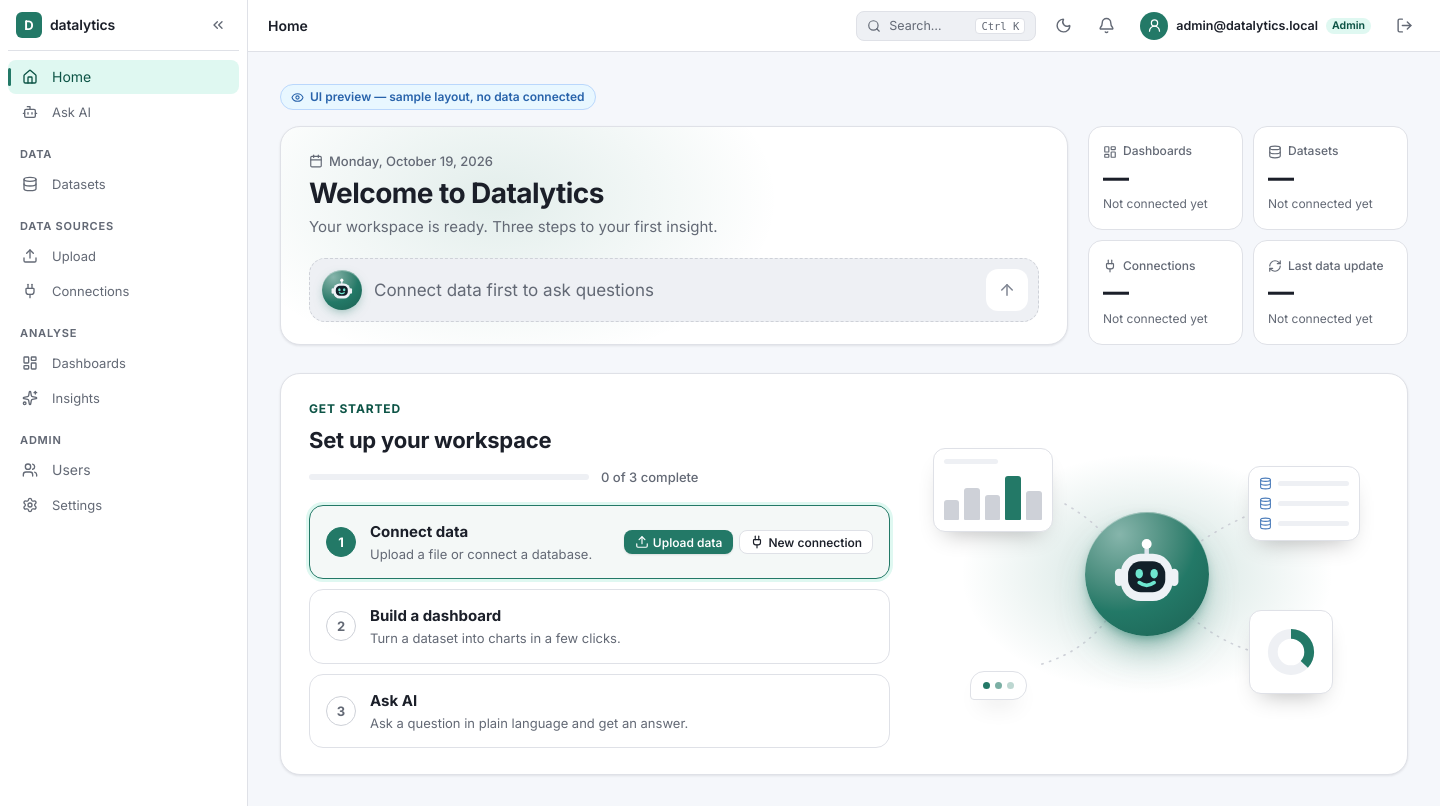
Test: App: administrators › administrators open the Users page from the sidebar and back to Home
Click the button "Users". click: (124, 470)
box: [8,453,239,487]
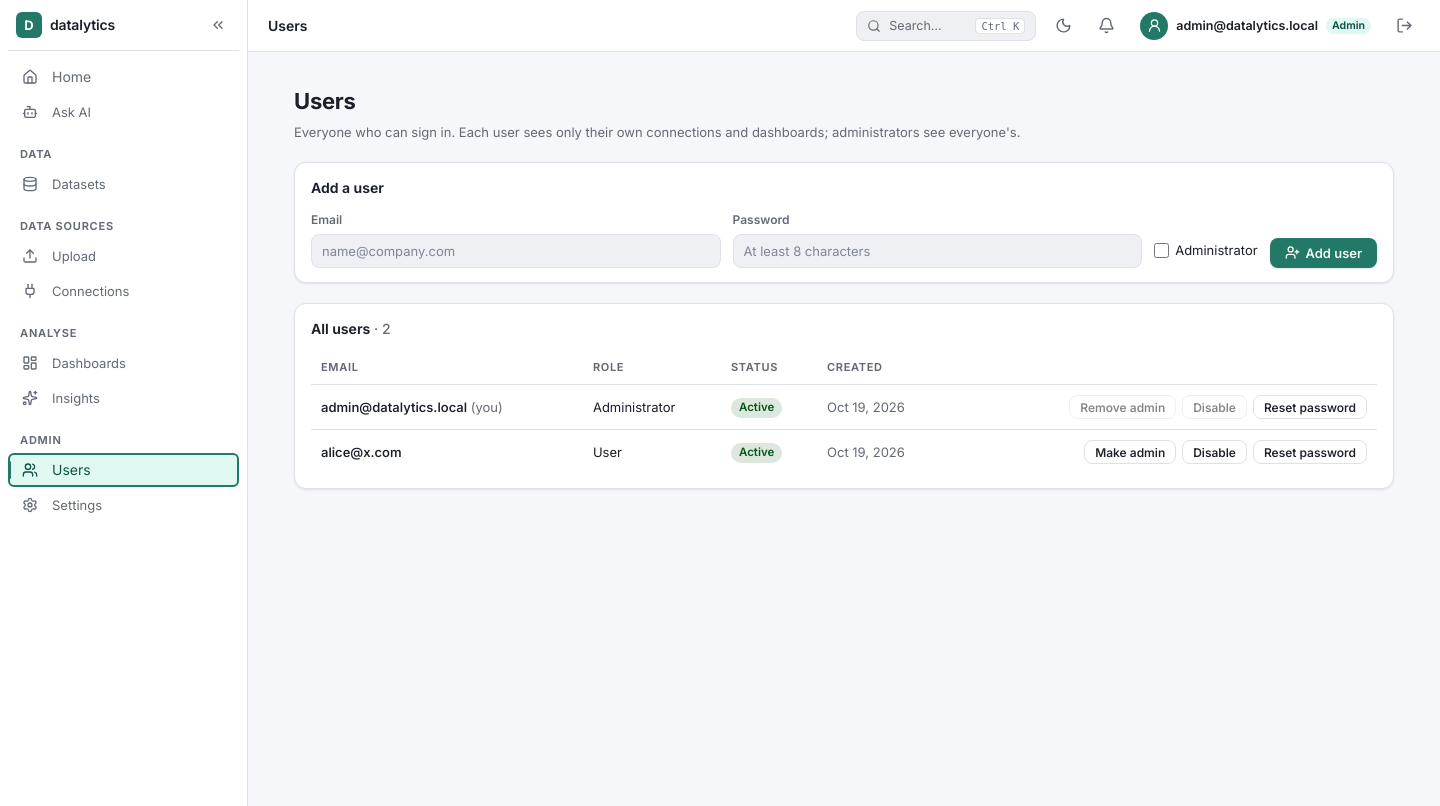
Expected: the heading "Users" is shown, [294,88,356,114]
Expected: the text "alice@x.com" is shown, [311,430,583,474]
Click the button "Home". click: (124, 77)
box: [8,60,239,94]
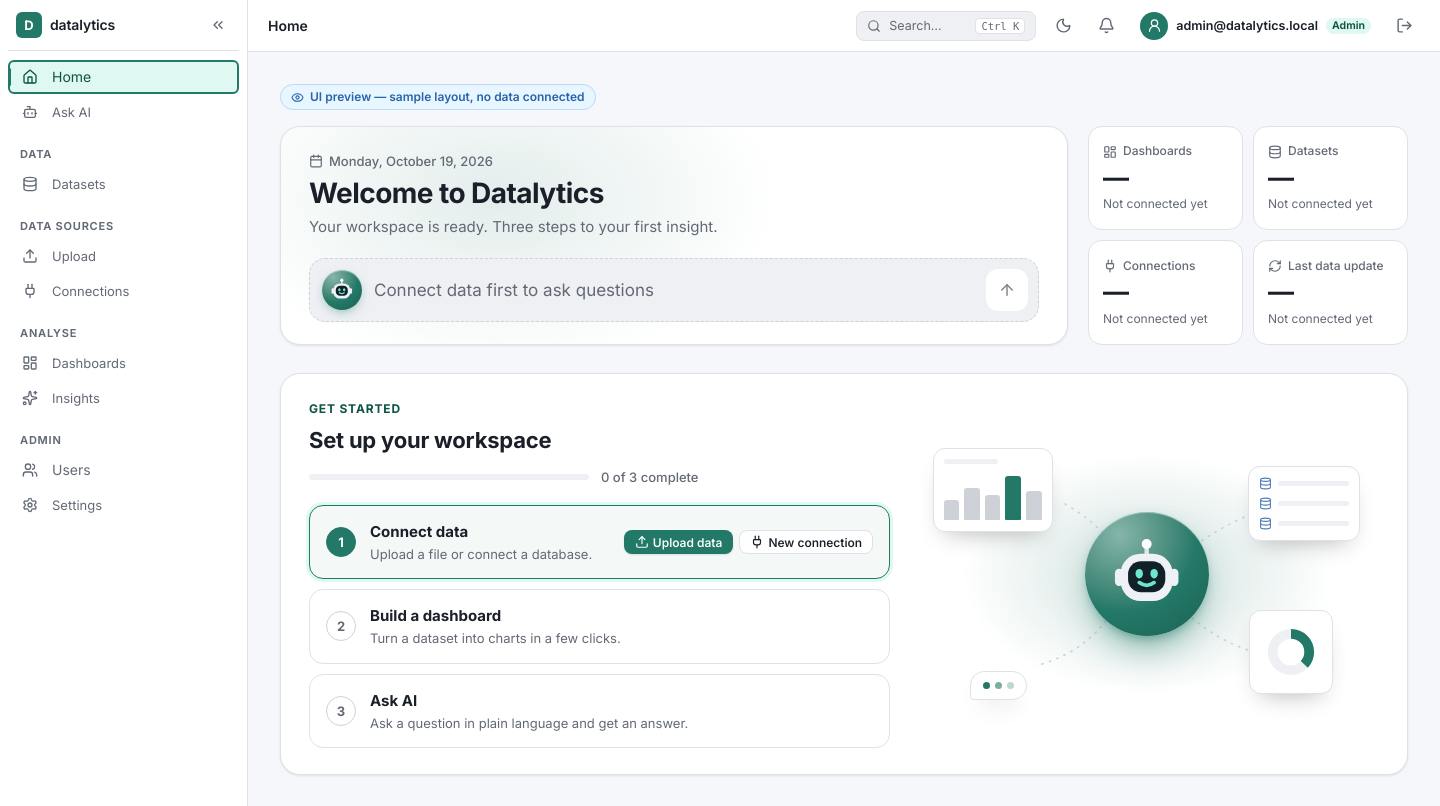
Expected: the heading "Welcome to Datalytics" is shown, [309,176,604,210]
